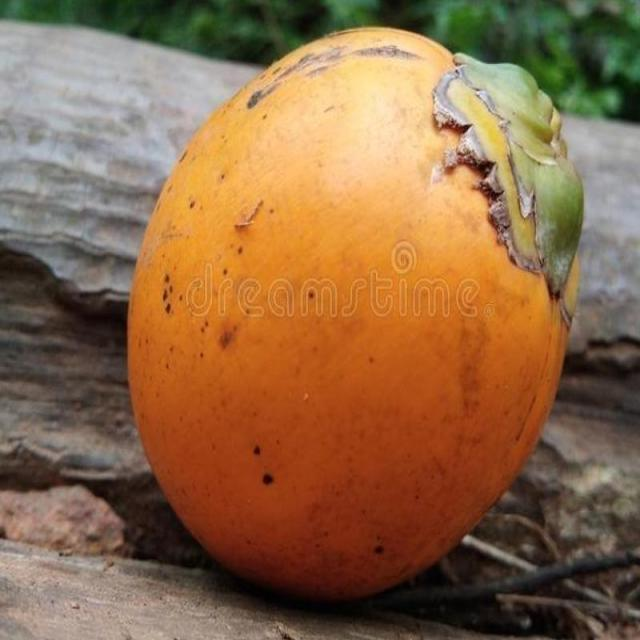good: (126, 27, 586, 610)
